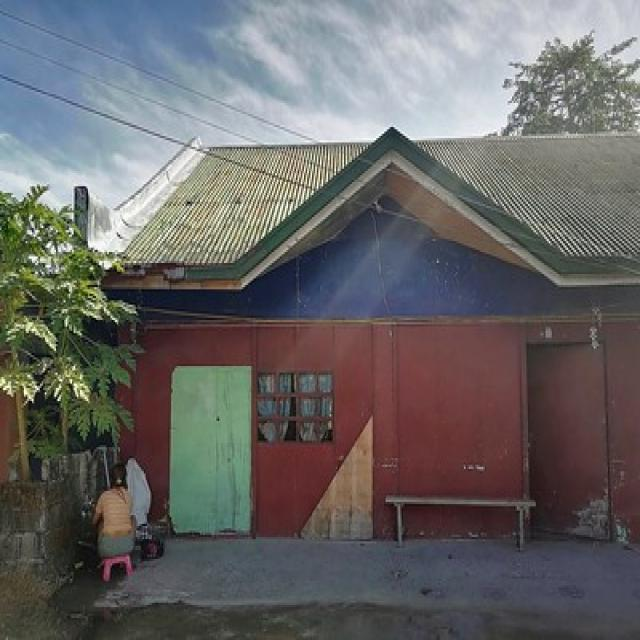building: (67, 126, 640, 556)
